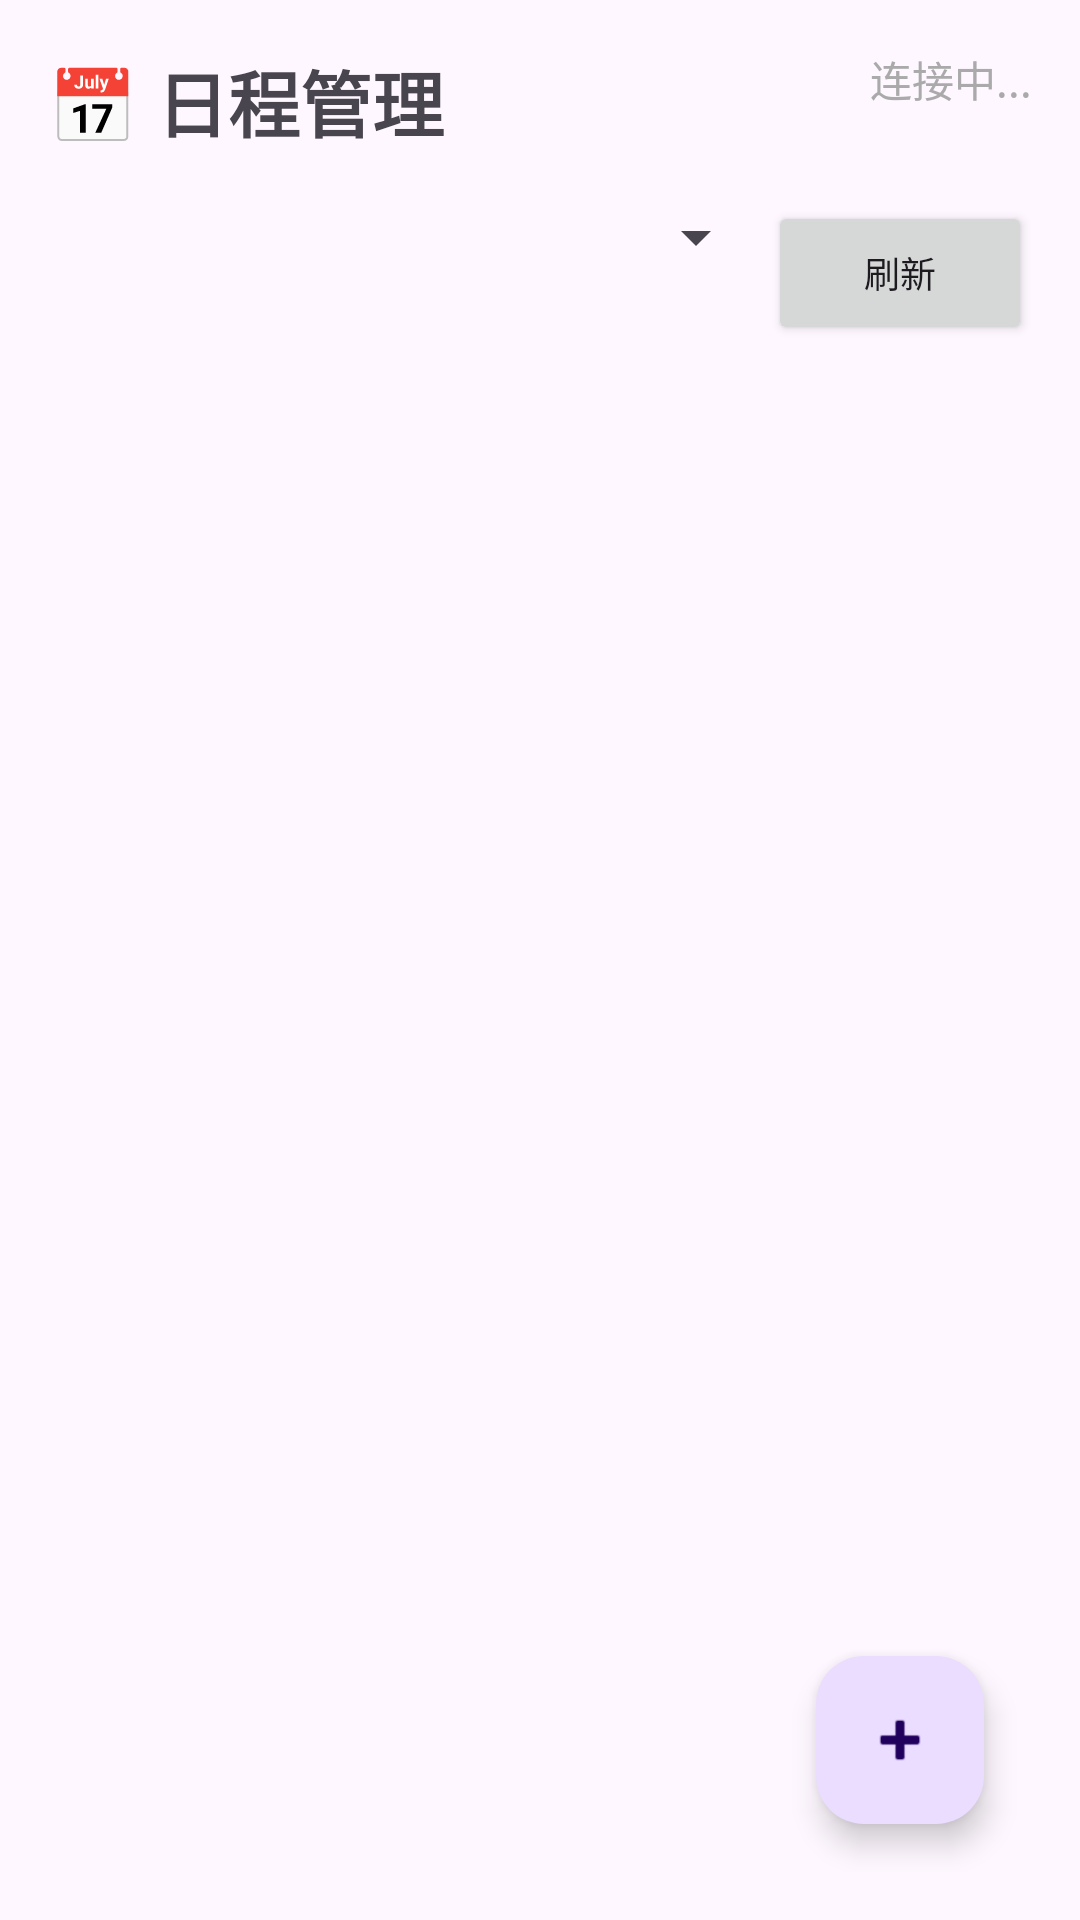

Screen size 1080*1920. Icon name, then its box in pixels as (x1, y1, x2, y2):
添加任务: (816, 1656, 984, 1824)
